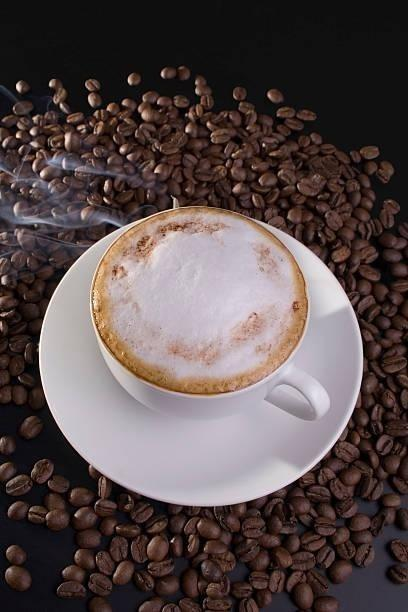cup-handle: (87, 202, 331, 426)
